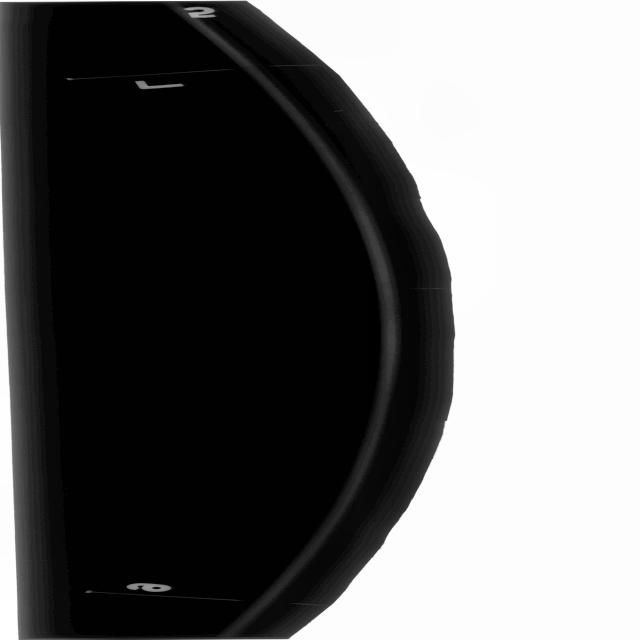porosity: (382, 404, 386, 406)
